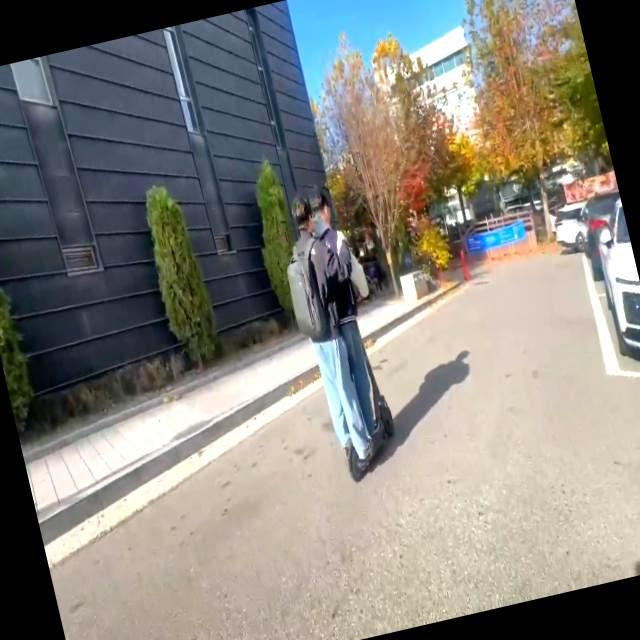bare_head: (288, 197, 318, 236), (306, 190, 335, 225)
human: (282, 199, 372, 463), (306, 188, 386, 445)
kickboard: (338, 394, 407, 489)
